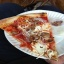pizza: (1, 12, 61, 62)
